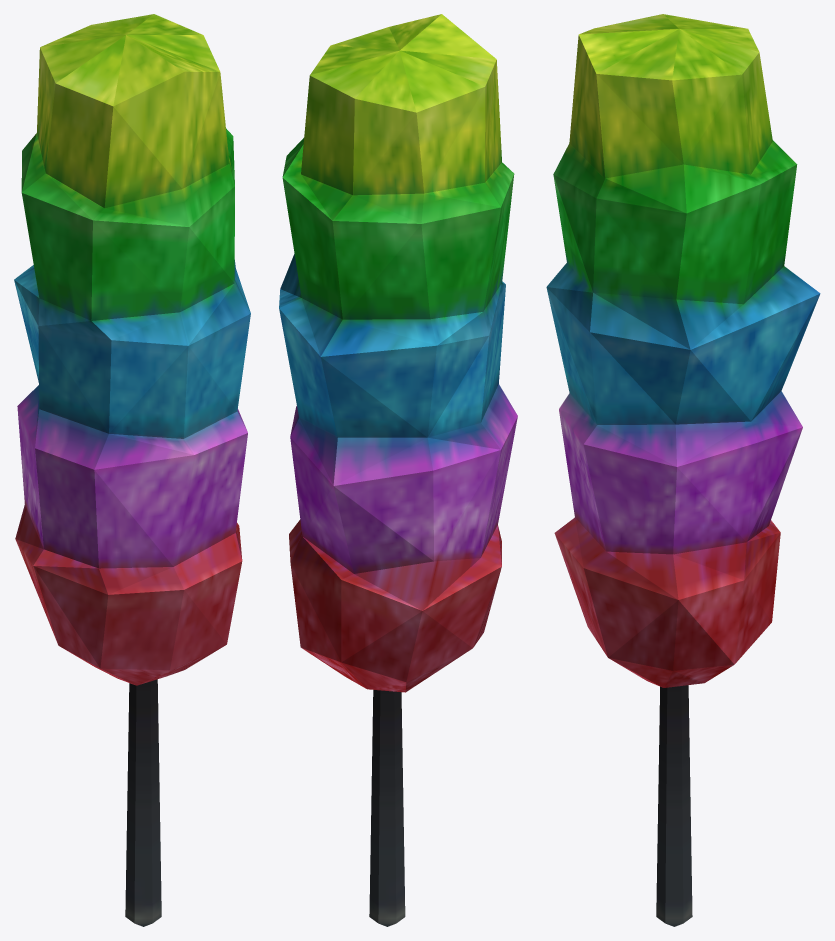
File: Wolf_butlerDuster.obj
The picture shows the model from 3 angles, left to right: view 1: azimuth 30°, elevation 25°; view 2: azimuth 150°, elevation 25°; view 3: azimuth 270°, elevation 25°; orthographic projection.
Parts seen in each view (by area): view 1: Wolf_butlerDuster_tri; view 2: Wolf_butlerDuster_tri; view 3: Wolf_butlerDuster_tri.
Part boxes in pixels (x1,y1,x2,y2): Wolf_butlerDuster_tri: (14,14,250,926); Wolf_butlerDuster_tri: (279,14,517,926); Wolf_butlerDuster_tri: (546,14,820,926).
Bounding box in the file's own units: 0.1923 × 0.7497 × 0.2091.
Materials: 1 (1 with a texture image).
